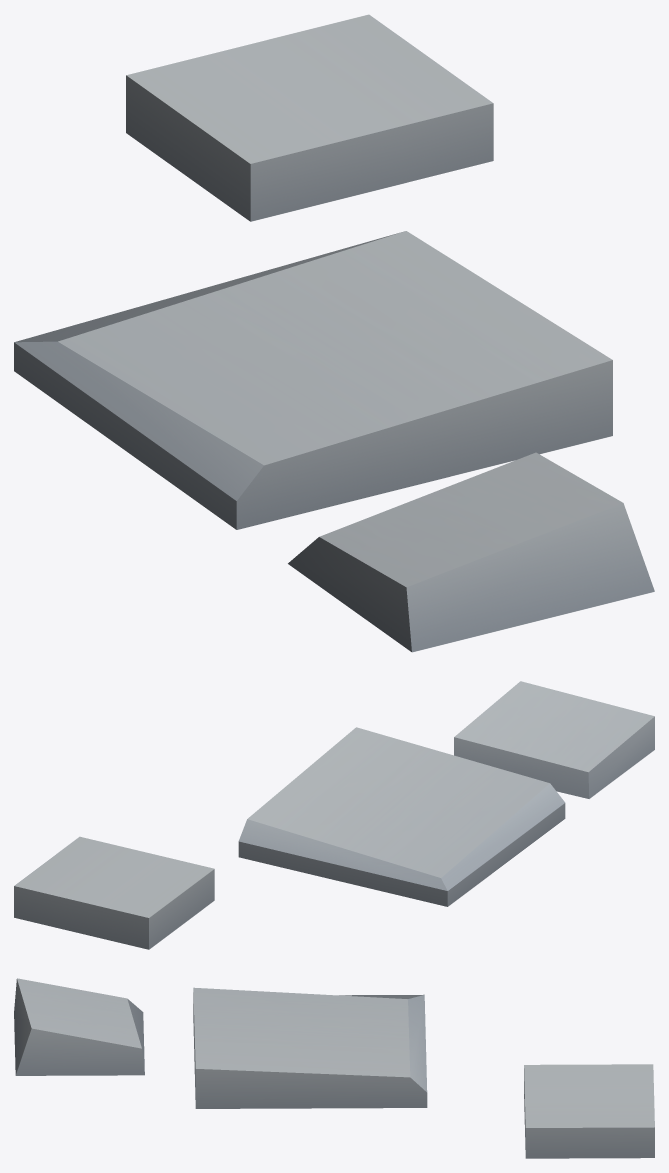
File: StoneRoad02.fbx
The picture shows the model from 3 angles, top to bottom: view 1: azimuth 30°, elevation 25°; view 2: azimuth 150°, elevation 25°; view 3: azimuth 270°, elevation 25°; orthographic projection. The views are drawn at different scales.
Parts seen in each view (by area): view 1: pCube98; view 2: pCube98; view 3: pCube98.
Boxes of the visible parts, <box> form: pCube98: <box>14,14,654,652</box>; pCube98: <box>14,681,654,949</box>; pCube98: <box>14,978,654,1158</box>.
Size of the model in its own units: 1.52 by 0.2061 by 2.77.
Materials: 1 (1 with a texture image).
